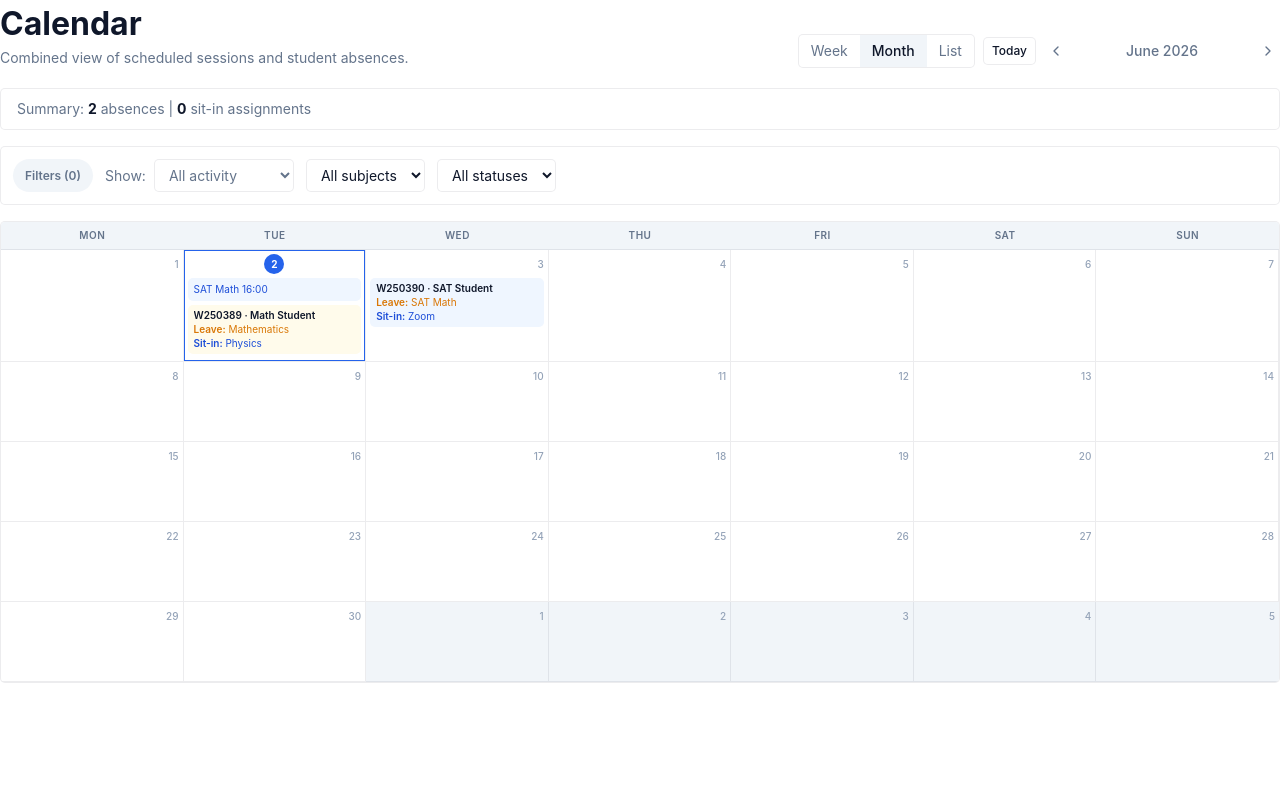
Test case: OperationsCalendar › applies the subject filter to absence chips as well as sessions
The width and height of the screenshot is (1280, 800).
Expected: the heading "Calendar" is shown, 0,4 -> 142,43
Expected: the text "W250389 · Math Student" is shown, 194,309 -> 315,321
Select "SAT Math" in the dropdown named "Subject": (365, 176) 306,159 -> 425,192
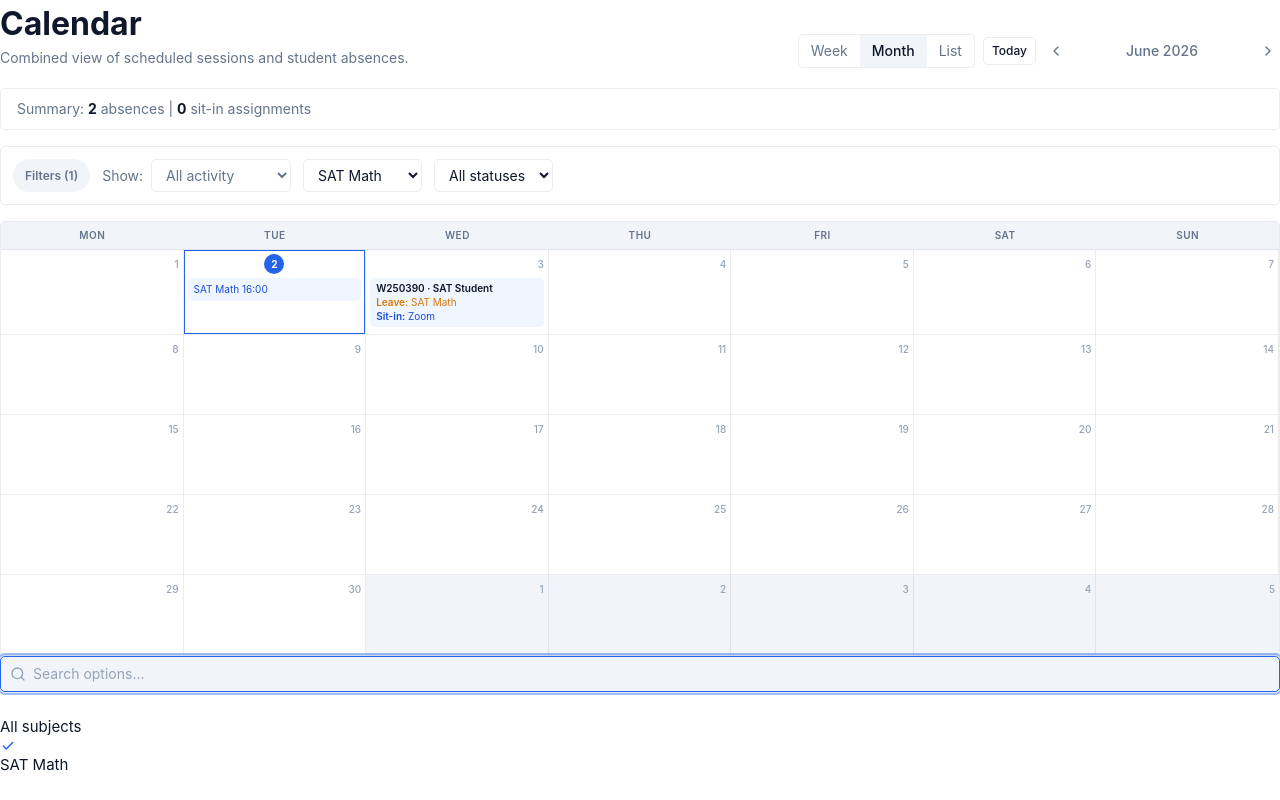
Expected: the text "W250390 · SAT Student" is shown, 376,282 -> 493,294
Now the button "W250389 · Math Student" is gone
